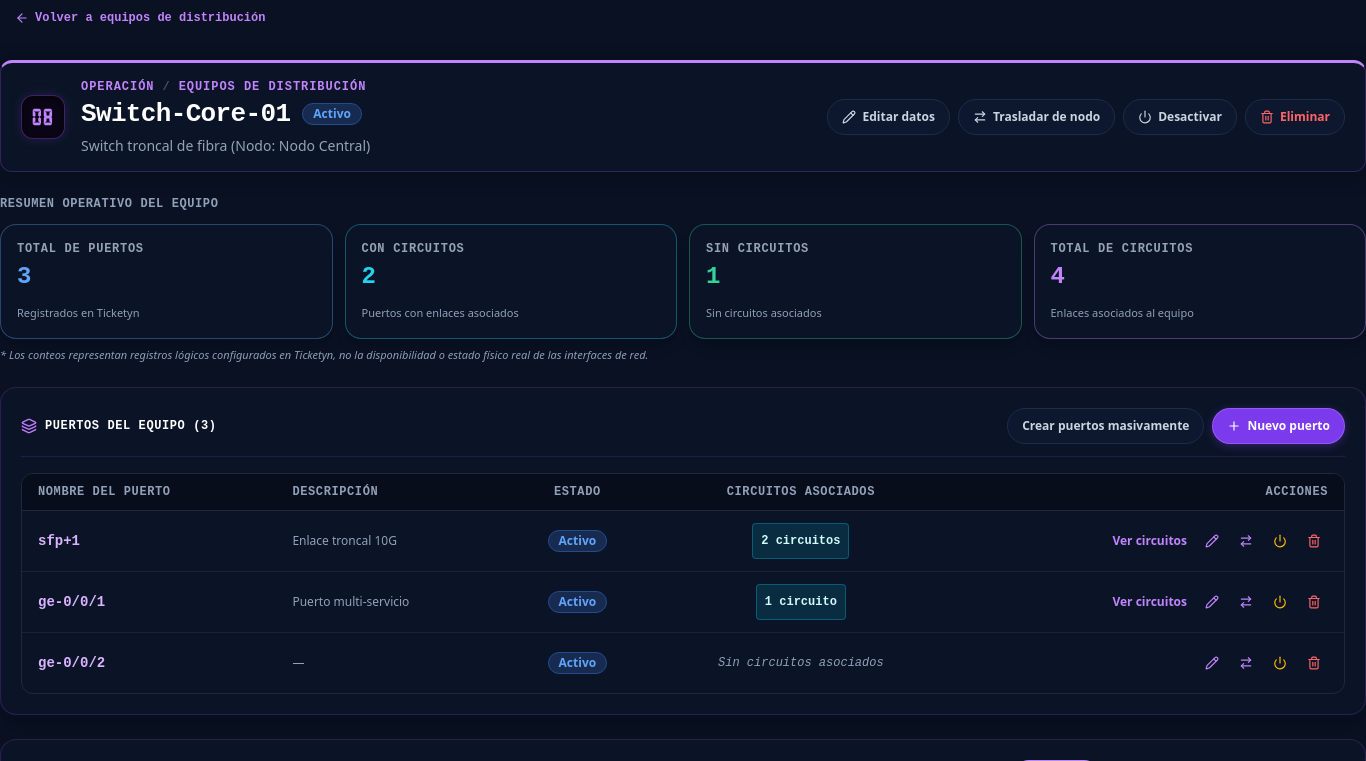
Test: DistributionDeviceDetail — Ficha técnica y gestión de puertos › crea un nuevo puerto asociado automáticamente al equipo actual sin volver a solicitarlo
The width and height of the screenshot is (1366, 761).
Click the button "Nuevo puerto". click: (1279, 426)
box: [1212, 408, 1345, 444]
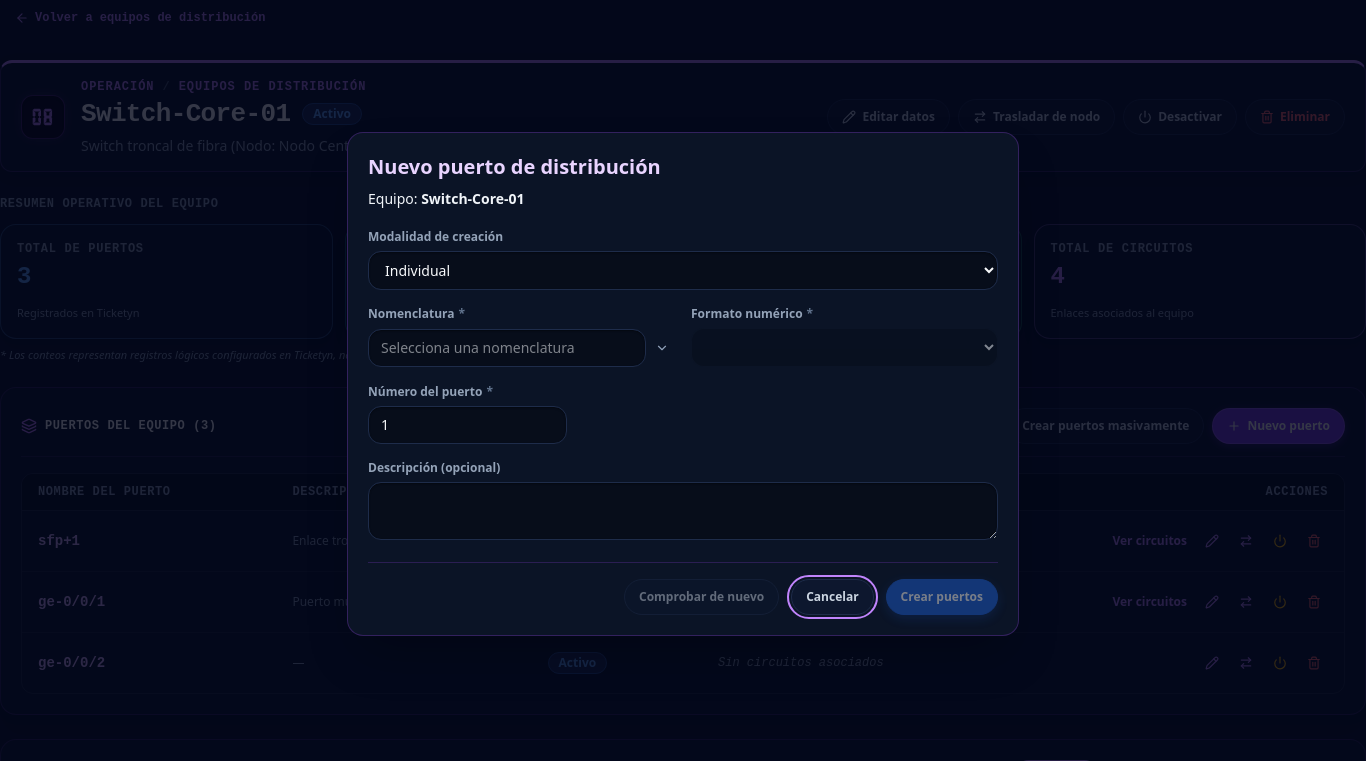
Result: the heading "Nuevo puerto de distribución" is shown at [368, 153, 661, 180]
Result: the text "Switch-Core-01" is shown at [421, 189, 524, 208]
Result: the dropdown labelled "Nomenclatura" is enabled
Click the dropdown labelled "Nomenclatura". click: (507, 348)
box: [368, 329, 646, 367]
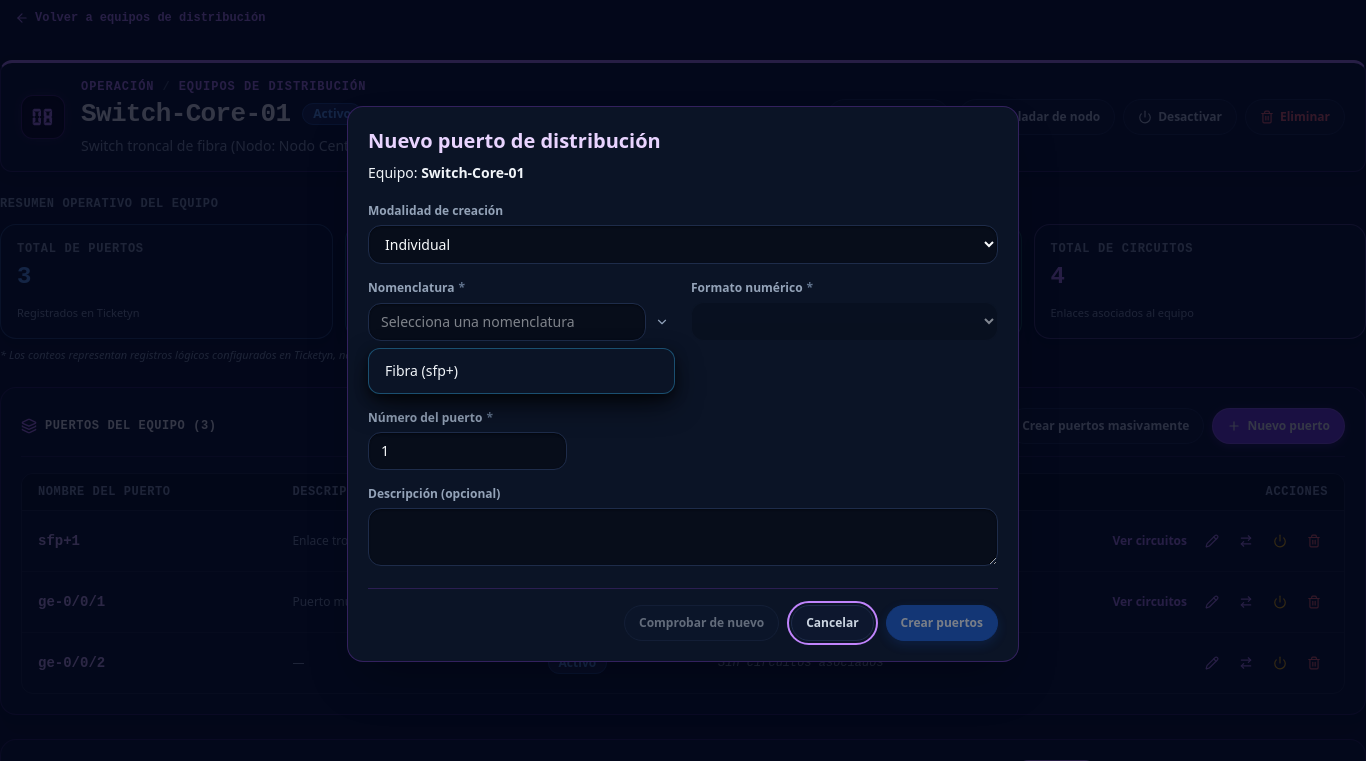
Click the option "Fibra (sfp+)". click: (422, 370)
box: [385, 361, 458, 380]
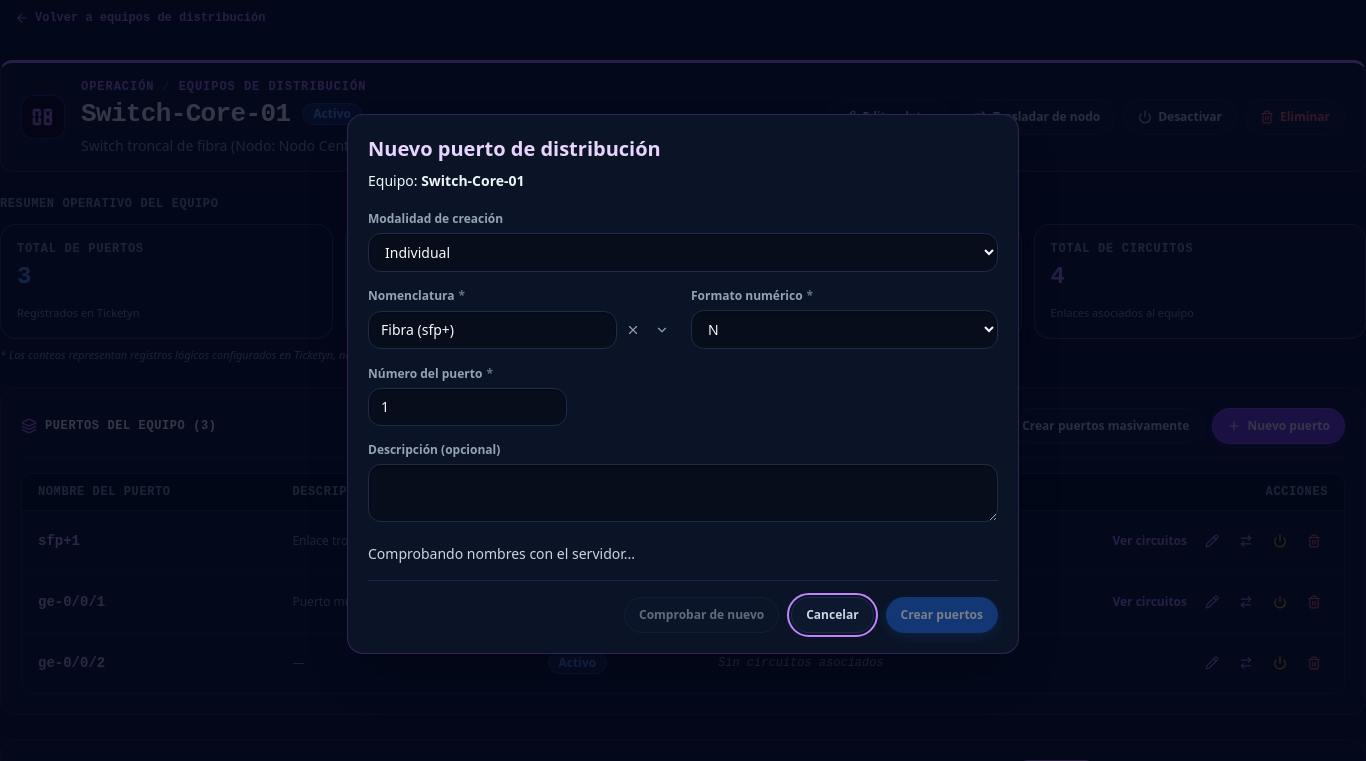
Replace the text in the number field labelled "Número del puerto*" with "2". click: (468, 407)
box: [368, 388, 567, 426]
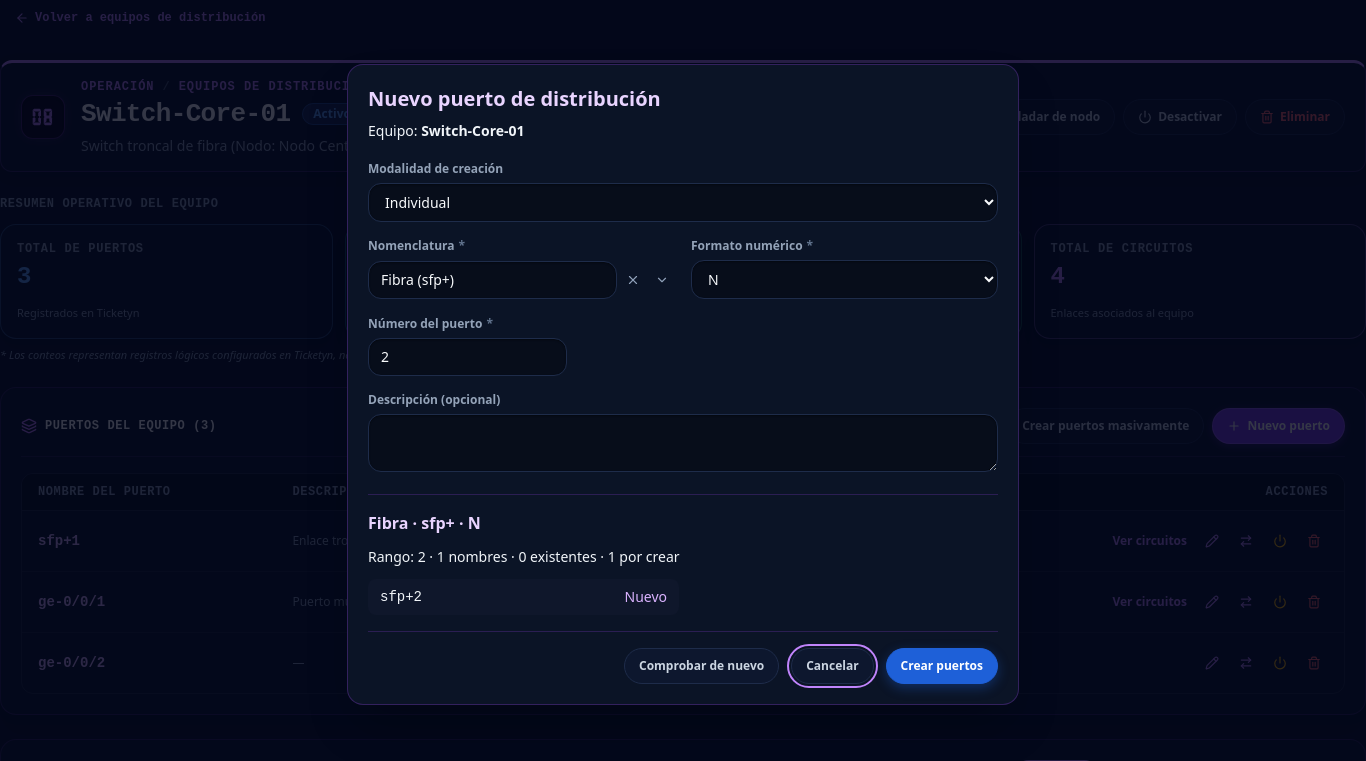
Result: the button "Crear puertos" is enabled
Click the button "Crear puertos". click: (942, 666)
box: [886, 648, 998, 684]
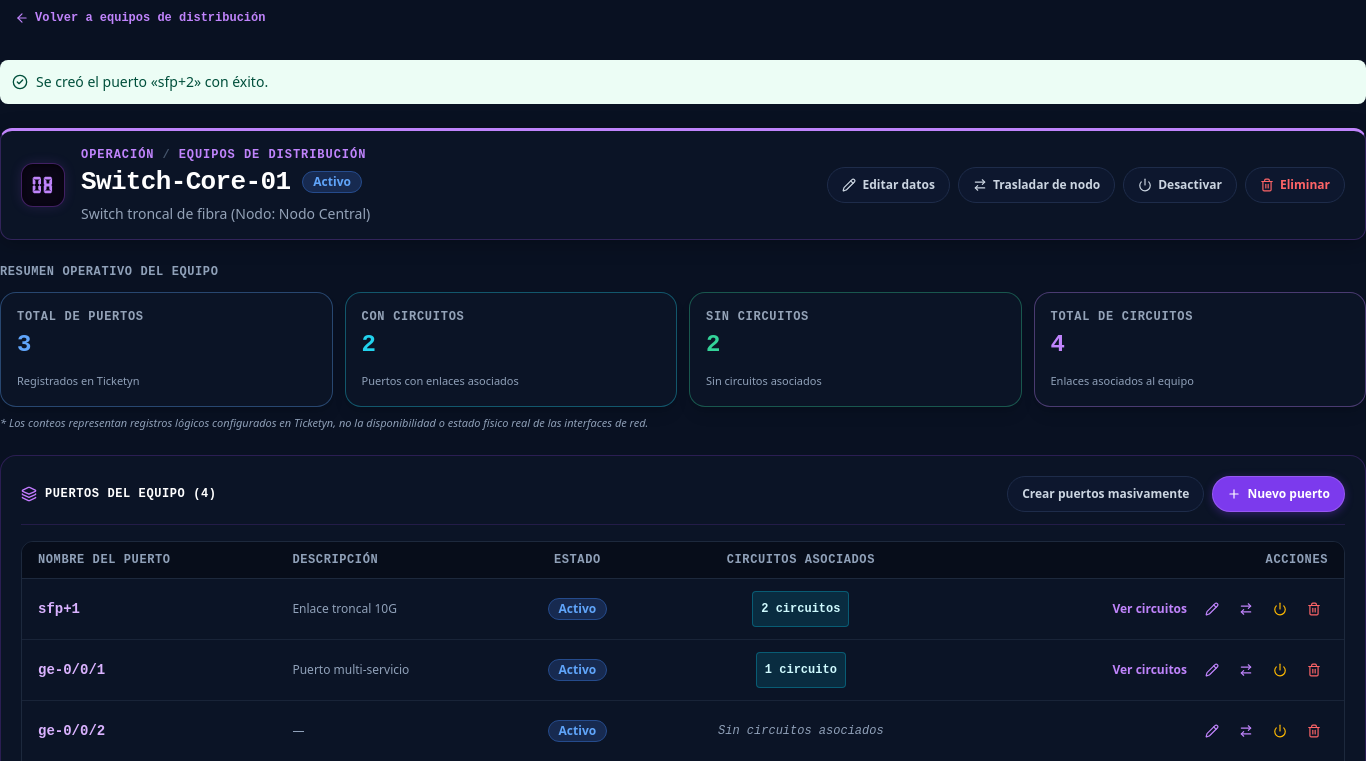
Result: the text "Se creó el puerto «sfp+2» con éxito." is shown at [36, 72, 268, 92]
